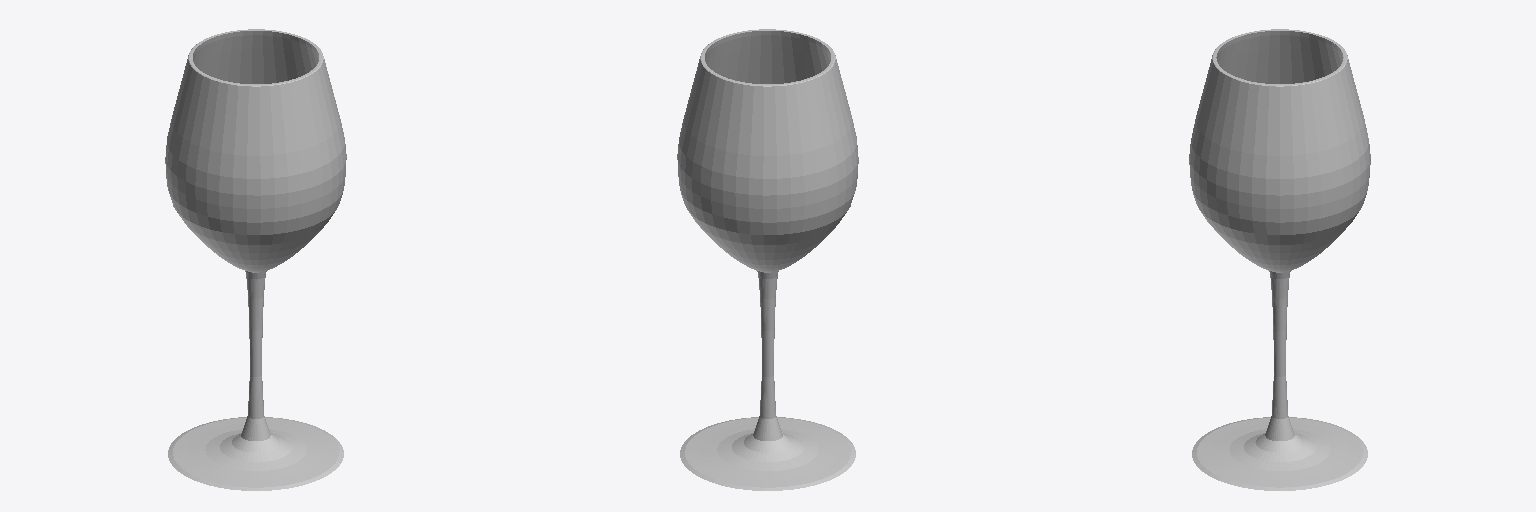
File: glass.obj
3 renders of one model, left to right at view 1: azimuth 30°, elevation 25°; view 2: azimuth 150°, elevation 25°; view 3: azimuth 270°, elevation 25°, orthographic.
Visible parts, largest first — view 1: pCylinder1; view 2: pCylinder1; view 3: pCylinder1.
Part boxes in pixels (x1,y1,x2,y2): pCylinder1: (165, 29, 346, 490); pCylinder1: (677, 29, 858, 490); pCylinder1: (1189, 29, 1370, 490).
Size of the model in its own units: 1.07 by 2.58 by 1.07.